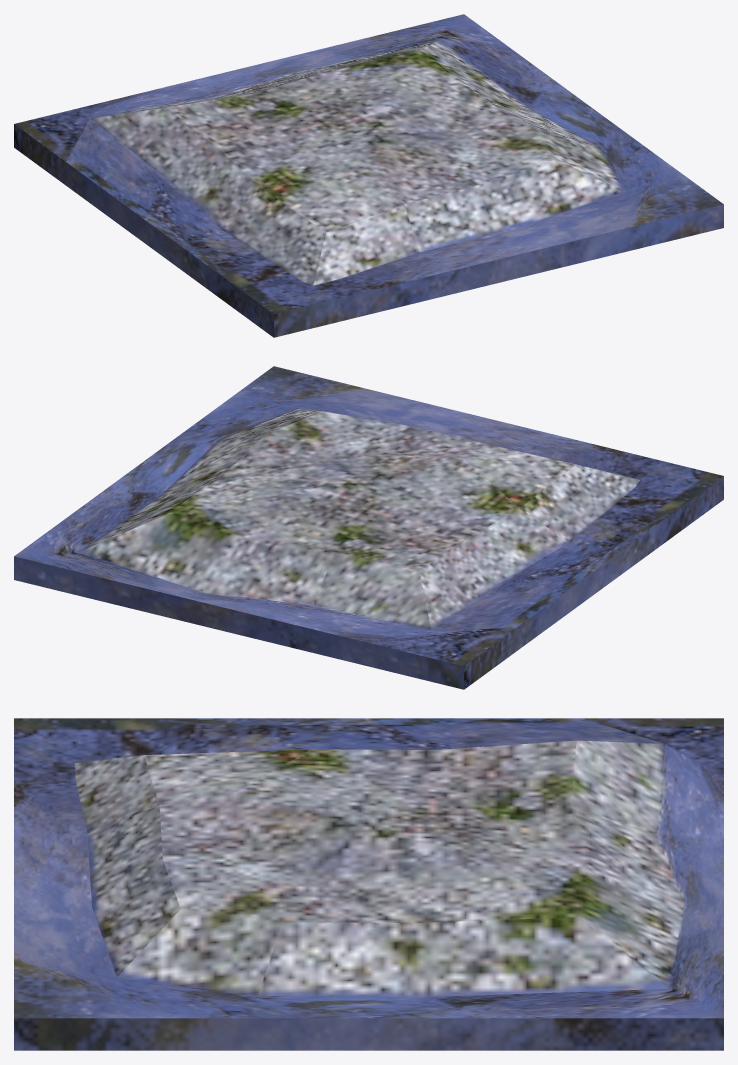
File: WaterWay.glb
3 views of the same model, one above another, from view 1: azimuth 30°, elevation 25°; view 2: azimuth 150°, elevation 25°; view 3: azimuth 270°, elevation 25° (orthographic). The views are drawn at different scales.
Parts seen in each view (by area): view 1: Cube; view 2: Cube; view 3: Cube.
Part boxes in pixels (x1,y1,x2,y2): Cube: [14, 14, 723, 337]; Cube: [14, 366, 723, 689]; Cube: [14, 718, 723, 1050].
Size of the model in its own units: 2 by 0.2398 by 2.
Materials: 1 (1 with a texture image).
